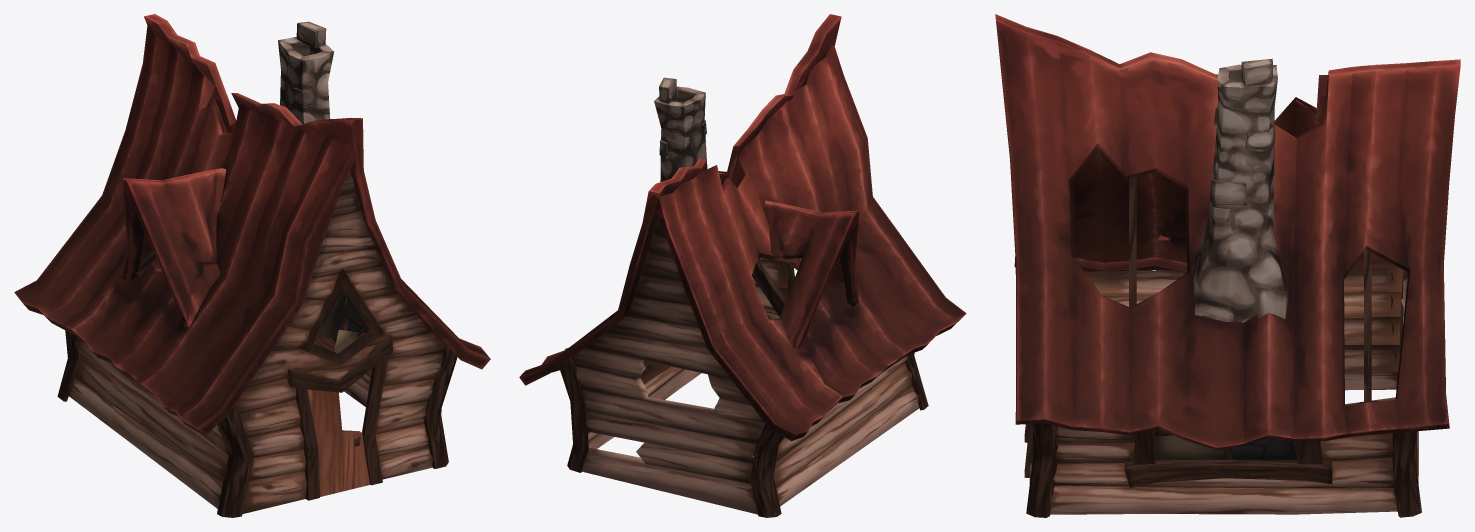
File: CabinAbandonded.fbx
3 views of the same model, side by side, from view 1: azimuth 30°, elevation 25°; view 2: azimuth 150°, elevation 25°; view 3: azimuth 270°, elevation 25° (orthographic). The views are drawn at different scales.
Visible parts, largest first — view 1: Abandoned_Cabin_Geo, Abandoned_Cabin_Door_Geo; view 2: Abandoned_Cabin_Geo; view 3: Abandoned_Cabin_Geo.
Part boxes in pixels (x1,y1,x2,y2): Abandoned_Cabin_Geo: (14, 14, 490, 517); Abandoned_Cabin_Door_Geo: (307, 389, 369, 496); Abandoned_Cabin_Geo: (519, 14, 966, 517); Abandoned_Cabin_Geo: (995, 14, 1460, 517).
Size of the model in its own units: 1019 by 1226 by 1175.
1 material, 1 textured.
